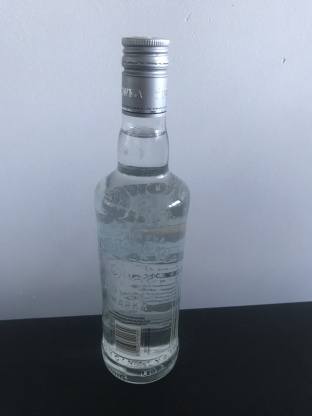nakretka: (119, 34, 170, 118)
